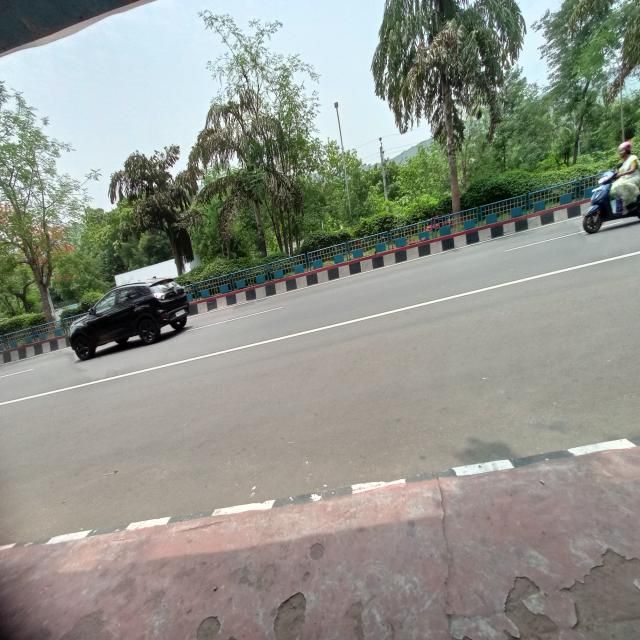bike: (581, 168, 633, 255)
car: (61, 278, 191, 357)
